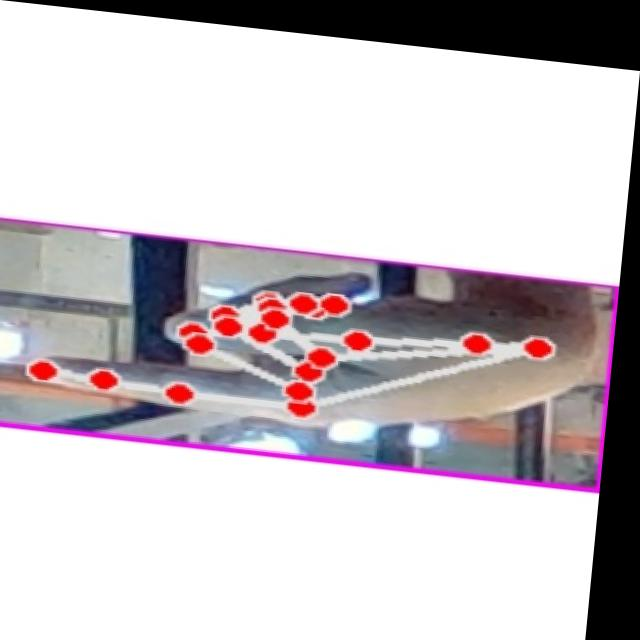G: (28, 233, 592, 454)
